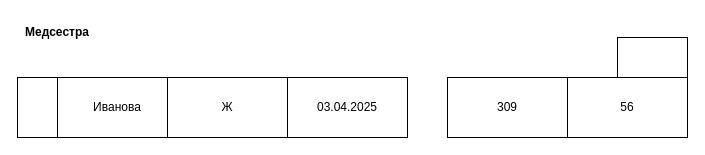
Some shapes in this 705 by 155 pixel diagram are drawn without their labels. Each missing label, with the centre of its shape:
Ключ номер: (652,57)
Номер ячейки 309: (37,107)
